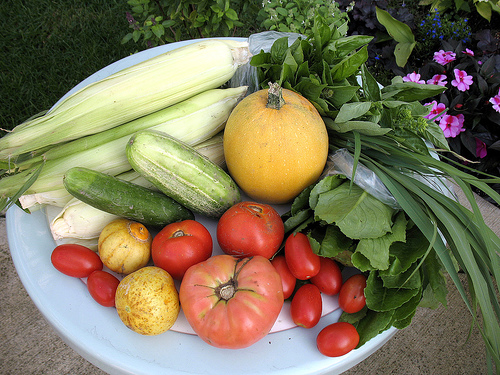cucumber: (124, 126, 246, 223), (62, 167, 196, 225)
